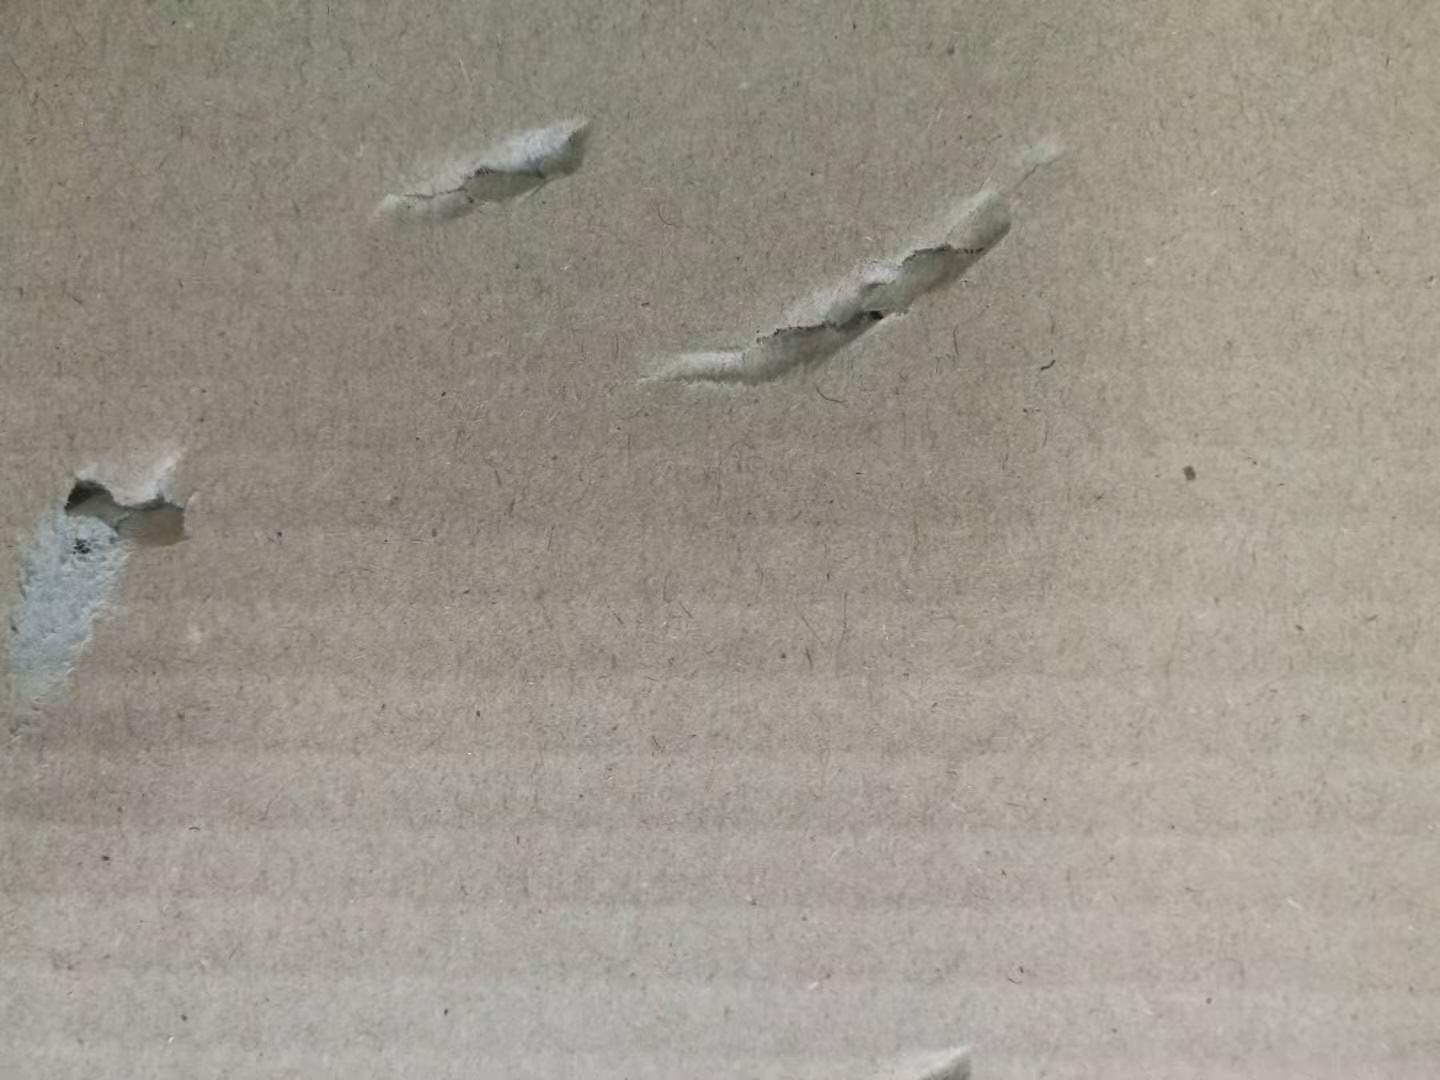defect: (600, 118, 1089, 420), (1, 419, 242, 762), (344, 95, 625, 244), (874, 1026, 1009, 1080)
